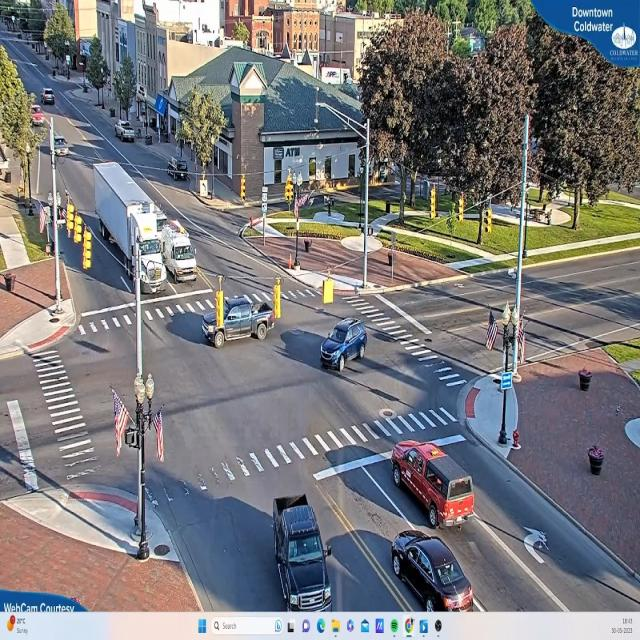car: (391, 438, 477, 530), (390, 530, 480, 612), (271, 498, 329, 610), (200, 294, 274, 345), (318, 316, 366, 371), (117, 120, 138, 142), (43, 90, 56, 106)
truck: (92, 161, 169, 293)
